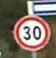limite 30: (11, 14, 51, 50)
